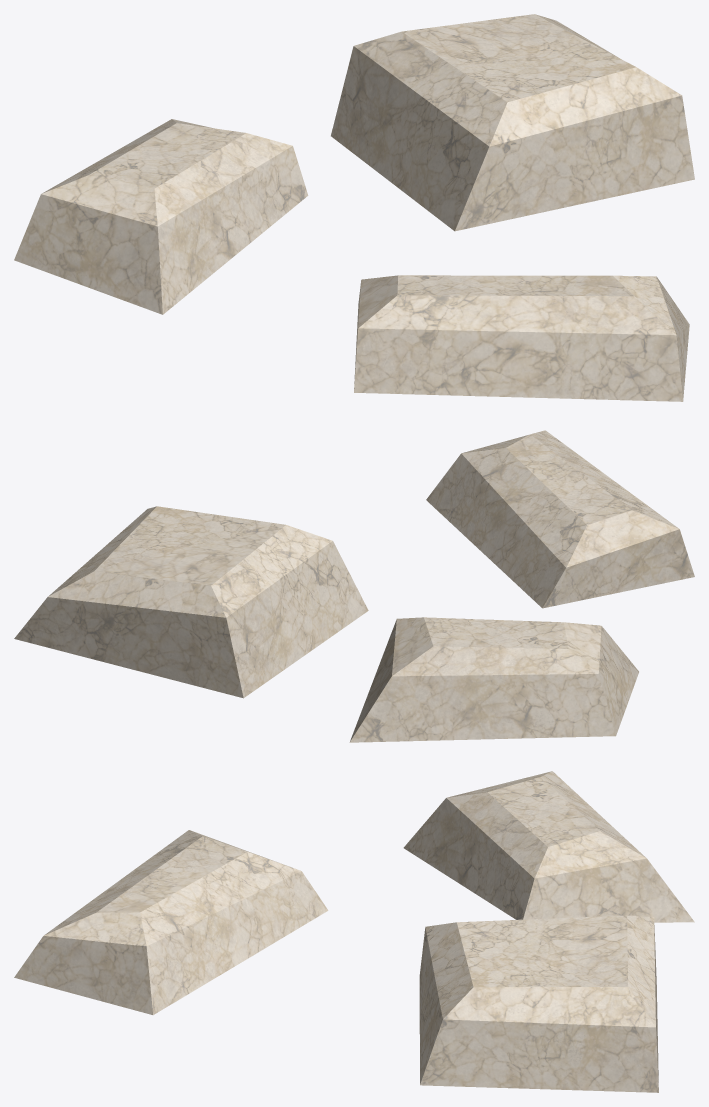
Rendered from ruins_rocks.fbx.
The picture shows the model from 3 angles, top to bottom: view 1: azimuth 30°, elevation 25°; view 2: azimuth 150°, elevation 25°; view 3: azimuth 270°, elevation 25°; orthographic projection. The views are drawn at different scales.
Parts seen in each view (by area): view 1: Cube, Cube.002, Cube.001; view 2: Cube, Cube.001, Cube.002; view 3: Cube, Cube.002, Cube.001.
Boxes of the visible parts, x1,y1,x2,y2 form: Cube: (331, 14, 694, 231); Cube.002: (354, 275, 689, 401); Cube.001: (14, 119, 308, 314); Cube: (14, 506, 368, 698); Cube.001: (349, 617, 638, 742); Cube.002: (426, 430, 694, 608); Cube: (419, 915, 658, 1092); Cube.002: (14, 830, 328, 1014); Cube.001: (403, 771, 694, 922).
Bounding box in the file's own units: 878 × 140 × 921.
